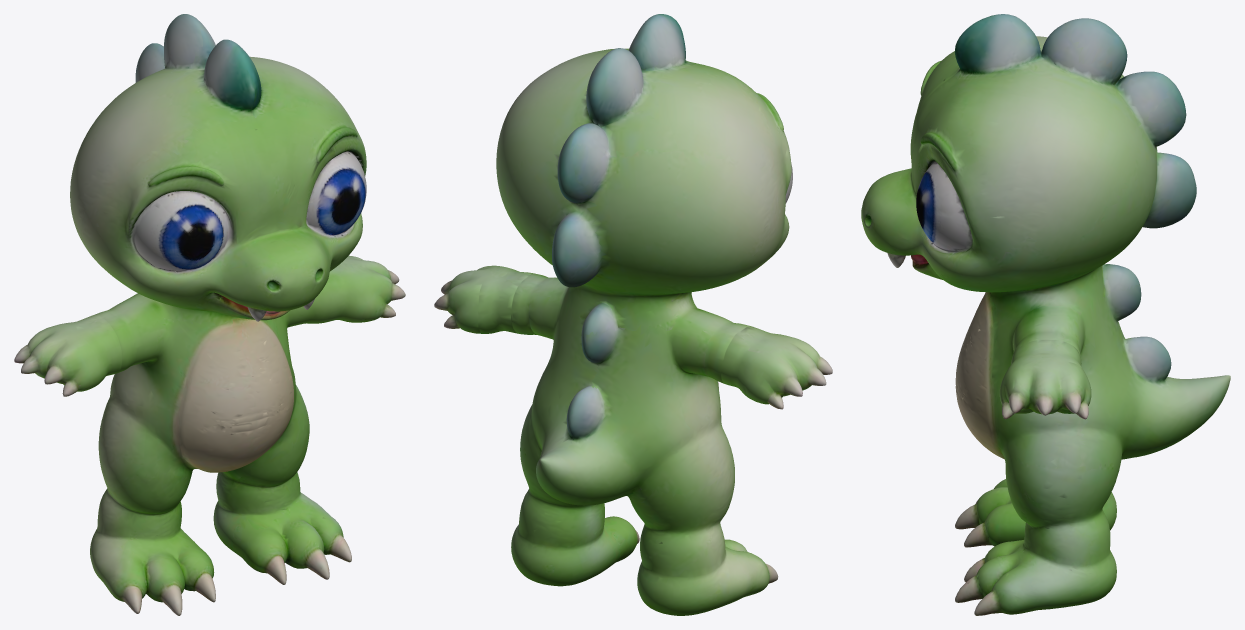
Rendered from tripo_convert_3deb9092-ef7e-46b5-8d71-dc928866824f.fbx.
3 renders of one model, left to right at view 1: azimuth 30°, elevation 25°; view 2: azimuth 150°, elevation 25°; view 3: azimuth 270°, elevation 25°, orthographic. The views are drawn at different scales.
Parts seen in each view (by area): view 1: tripo_node_3deb9092; view 2: tripo_node_3deb9092; view 3: tripo_node_3deb9092.
Boxes of the visible parts, bbox=[...] form: tripo_node_3deb9092: bbox=[14, 14, 405, 615]; tripo_node_3deb9092: bbox=[434, 14, 832, 615]; tripo_node_3deb9092: bbox=[861, 14, 1230, 615].
Bounding box in the file's own units: 71.86 × 59.59 × 98.
1 material, 1 textured.
